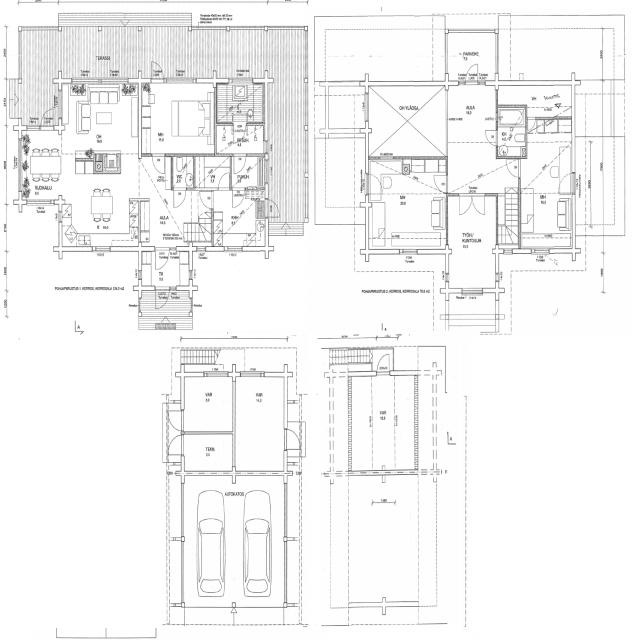door: (155, 246, 169, 271), (167, 411, 184, 431), (284, 430, 301, 450), (156, 286, 170, 310), (168, 436, 185, 454), (265, 199, 281, 217), (41, 108, 53, 130), (466, 64, 478, 86), (377, 355, 389, 377), (234, 154, 247, 174), (232, 187, 245, 207), (472, 194, 485, 214), (152, 61, 164, 82), (152, 154, 164, 174), (234, 123, 246, 143), (174, 187, 186, 207), (460, 194, 472, 214), (433, 175, 447, 192), (506, 160, 520, 177), (200, 192, 213, 209), (218, 172, 229, 190), (485, 130, 497, 146), (528, 117, 536, 131)
